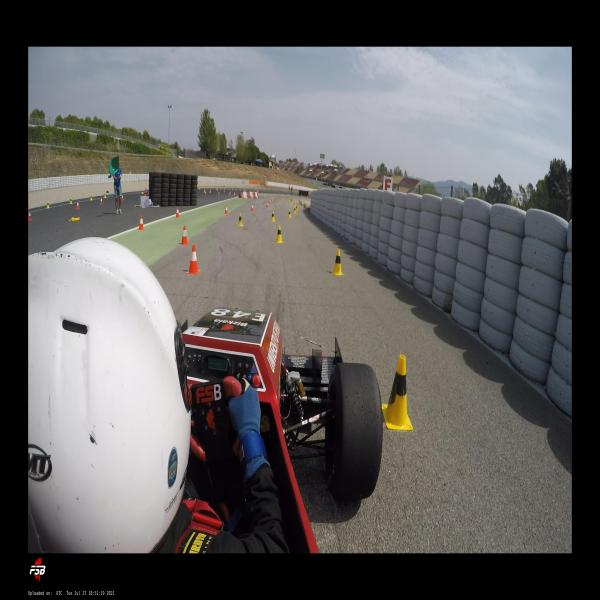orange_cone: (186, 245, 200, 274), (180, 226, 188, 246), (138, 215, 144, 230), (176, 207, 180, 218), (28, 210, 32, 220), (224, 205, 228, 214), (251, 203, 254, 211), (76, 201, 79, 209), (121, 195, 124, 201), (100, 196, 102, 204), (266, 201, 268, 208), (269, 199, 270, 204)
yellow_cone: (382, 354, 413, 430), (332, 249, 343, 275), (275, 225, 283, 244), (237, 214, 243, 226), (271, 211, 275, 222), (287, 210, 291, 219), (46, 201, 50, 208), (69, 197, 73, 204), (293, 207, 296, 214), (103, 192, 106, 198), (296, 205, 298, 211), (90, 195, 92, 200), (142, 189, 144, 194), (294, 202, 295, 206), (291, 201, 292, 204)
